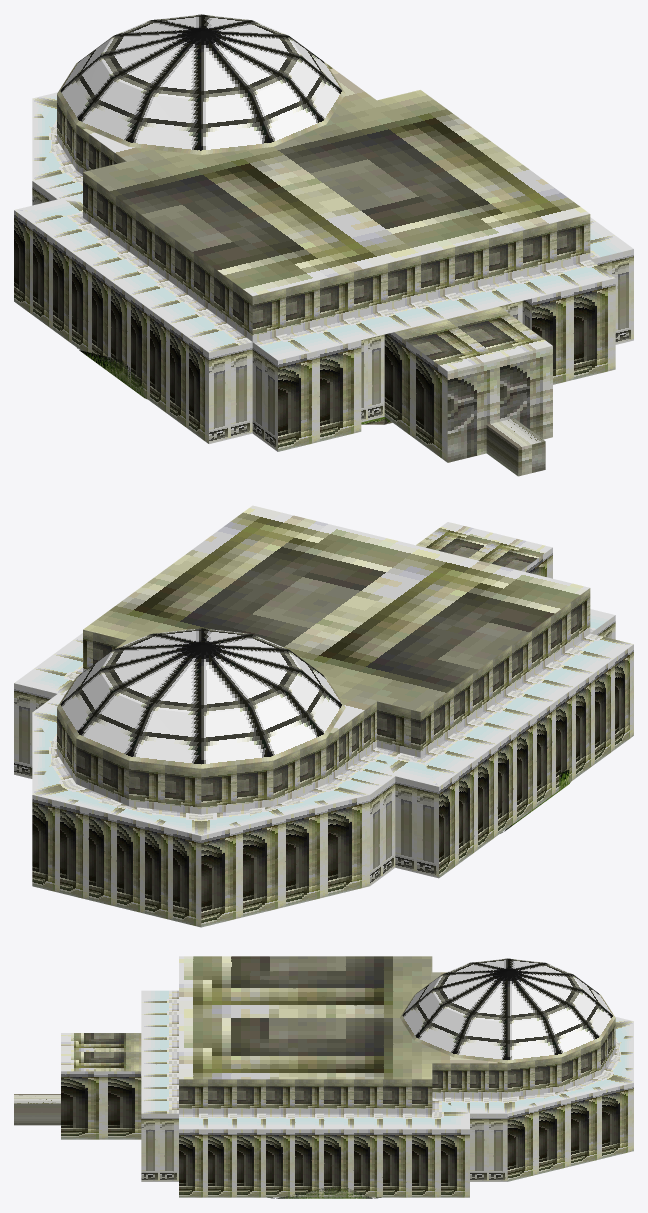
File: Azalea_Gym.glb
The picture shows the model from 3 angles, top to bottom: view 1: azimuth 30°, elevation 25°; view 2: azimuth 150°, elevation 25°; view 3: azimuth 270°, elevation 25°; orthographic projection. The views are drawn at different scales.
Parts seen in each view (by area): view 1: mesh_id10, mesh_id11, mesh_id9, mesh_id8, mesh_id12, mesh_id5, mesh_id14; view 2: mesh_id10, mesh_id11, mesh_id9, mesh_id8, mesh_id12; view 3: mesh_id10, mesh_id11, mesh_id9, mesh_id8, mesh_id12, mesh_id5, mesh_id14.
Boxes of the visible parts, x1=… form: mesh_id10: x1=57, y1=64, x2=590, y2=371; mesh_id11: x1=14, y1=210, x2=615, y2=462; mesh_id9: x1=57, y1=14, x2=345, y2=154; mesh_id8: x1=14, y1=92, x2=633, y2=360; mesh_id12: x1=32, y1=181, x2=633, y2=451; mesh_id5: x1=447, y1=346, x2=552, y2=476; mesh_id14: x1=77, y1=348, x2=146, y2=398; mesh_id10: x1=57, y1=505, x2=590, y2=814; mesh_id11: x1=32, y1=547, x2=633, y2=927; mesh_id9: x1=57, y1=628, x2=345, y2=768; mesh_id8: x1=14, y1=609, x2=633, y2=835; mesh_id12: x1=14, y1=615, x2=615, y2=885; mesh_id10: x1=61, y1=956, x2=615, y2=1113; mesh_id11: x1=61, y1=1071, x2=633, y2=1197; mesh_id9: x1=400, y1=958, x2=615, y2=1063; mesh_id8: x1=141, y1=990, x2=633, y2=1129; mesh_id12: x1=141, y1=1113, x2=507, y2=1181; mesh_id5: x1=14, y1=1094, x2=60, y2=1125; mesh_id14: x1=267, y1=1186, x2=381, y2=1198.
Size of the model in its own units: 0.512 by 0.2395 by 0.8661.
Materials: 20 (20 with a texture image).
